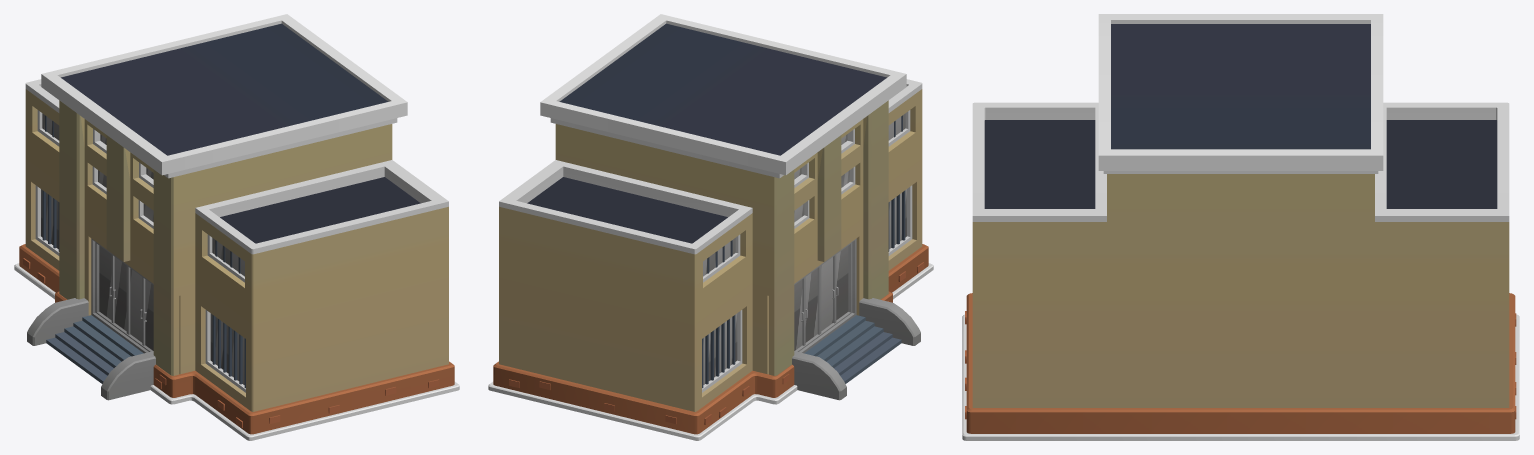
The model's file is Building_14_F.fbx.
3 views of the same model, side by side, from view 1: azimuth 30°, elevation 25°; view 2: azimuth 150°, elevation 25°; view 3: azimuth 270°, elevation 25° (orthographic). The views are drawn at different scales.
Parts seen in each view (by area): view 1: Building_14_F; view 2: Building_14_F; view 3: Building_14_F.
Boxes of the visible parts, x1,y1,x2,y2 form: Building_14_F: [14, 14, 459, 440]; Building_14_F: [488, 14, 933, 440]; Building_14_F: [962, 14, 1519, 440].
Bounding box in the file's own units: 908 × 755 × 1325.
